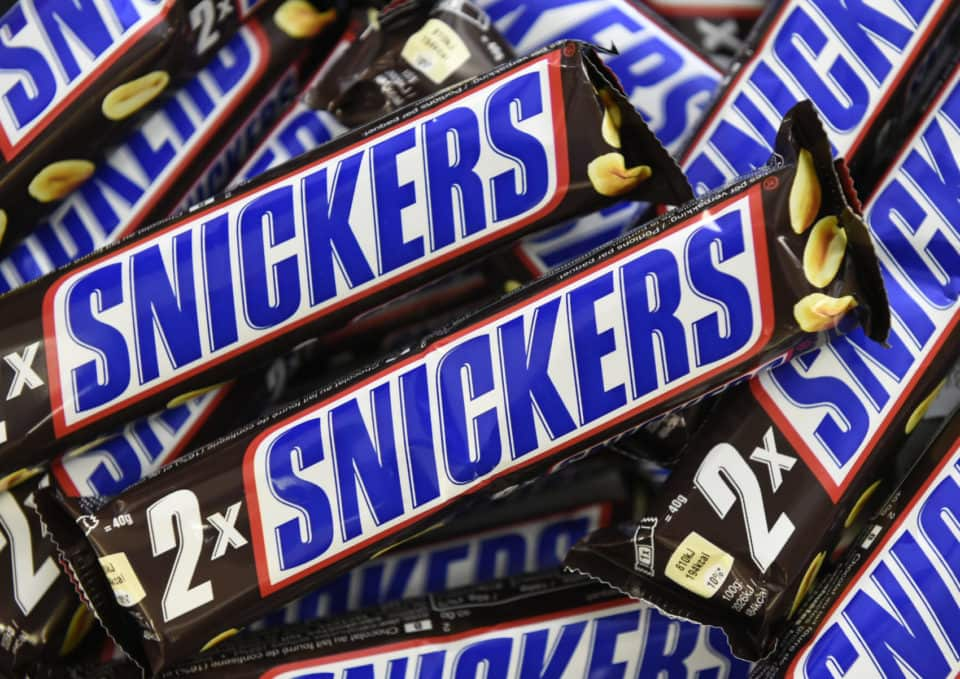snickers: (266, 207, 777, 566), (266, 207, 751, 569), (52, 69, 548, 410), (64, 69, 548, 411), (52, 127, 547, 410), (768, 76, 957, 496), (768, 76, 957, 467), (682, 0, 938, 256), (682, 0, 936, 198), (482, 0, 738, 179), (682, 1, 835, 256), (279, 598, 751, 677), (278, 600, 747, 677), (801, 456, 958, 676), (482, 0, 721, 144), (290, 605, 747, 677), (277, 516, 590, 621), (284, 607, 751, 677), (293, 516, 590, 618), (277, 534, 585, 621), (1, 0, 175, 147), (1, 0, 138, 125)
